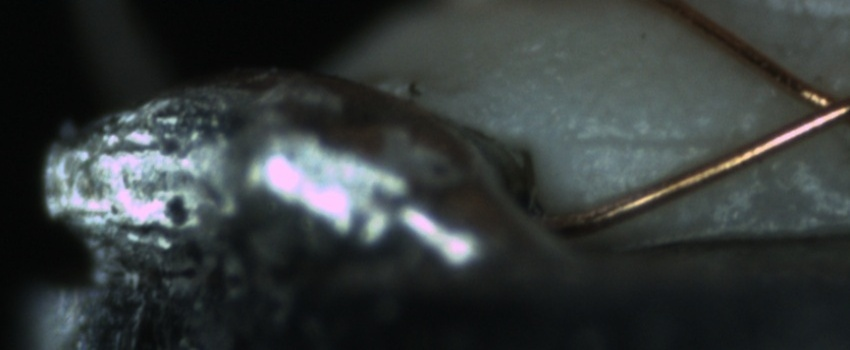CL: (777, 65, 848, 142)
DL: (561, 110, 744, 172)
